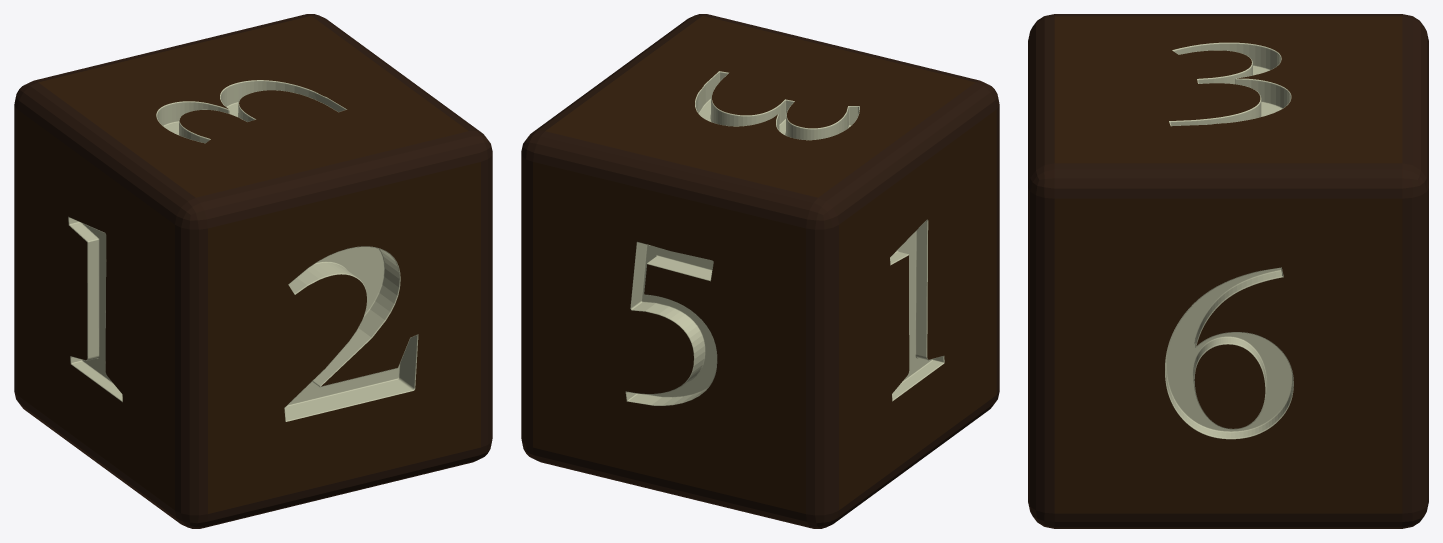
The model's file is dice.glb.
The picture shows the model from 3 angles, left to right: view 1: azimuth 30°, elevation 25°; view 2: azimuth 150°, elevation 25°; view 3: azimuth 270°, elevation 25°; orthographic projection. The views are drawn at different scales.
Visible parts, largest first — view 1: Cube; view 2: Cube; view 3: Cube.
Part boxes in pixels (x1=…): Cube: x1=14, y1=14, x2=492, y2=528; Cube: x1=521, y1=14, x2=999, y2=528; Cube: x1=1028, y1=14, x2=1428, y2=528.
Size of the model in its own units: 2 by 2 by 2.
